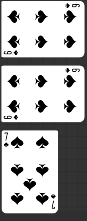6C: (64, 66, 82, 74)
7C: (3, 131, 10, 148)
